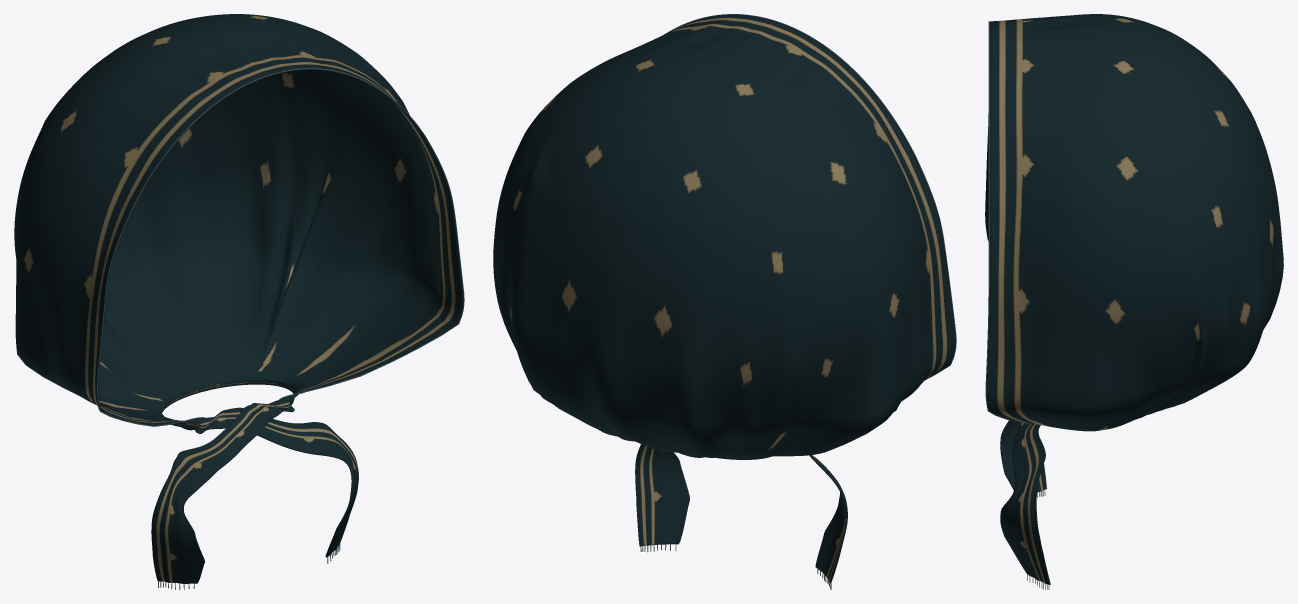
Rendered from Feminine-open-pashmina246-headgear.glb.
3 views of the same model, side by side, from view 1: azimuth 30°, elevation 25°; view 2: azimuth 150°, elevation 25°; view 3: azimuth 270°, elevation 25° (orthographic). The views are drawn at different scales.
Parts seen in each view (by area): view 1: 226 headgear / Headwear / continuous woven pashmina239, 226 headgear / Headwear / face edge239; view 2: 226 headgear / Headwear / continuous woven pashmina239, 226 headgear / Headwear / face edge239; view 3: 226 headgear / Headwear / continuous woven pashmina239, 226 headgear / Headwear / face edge239.
Boxes of the visible parts, x1,y1,x2,y2 form: 226 headgear / Headwear / continuous woven pashmina239: (14,14,463,583); 226 headgear / Headwear / face edge239: (96,68,464,426); 226 headgear / Headwear / continuous woven pashmina239: (493,14,955,583); 226 headgear / Headwear / face edge239: (664,14,956,379); 226 headgear / Headwear / continuous woven pashmina239: (985,14,1283,584); 226 headgear / Headwear / face edge239: (985,21,1031,423).
Size of the model in its own units: 1.02 by 1.35 by 0.7116.
3 materials, 1 textured.
